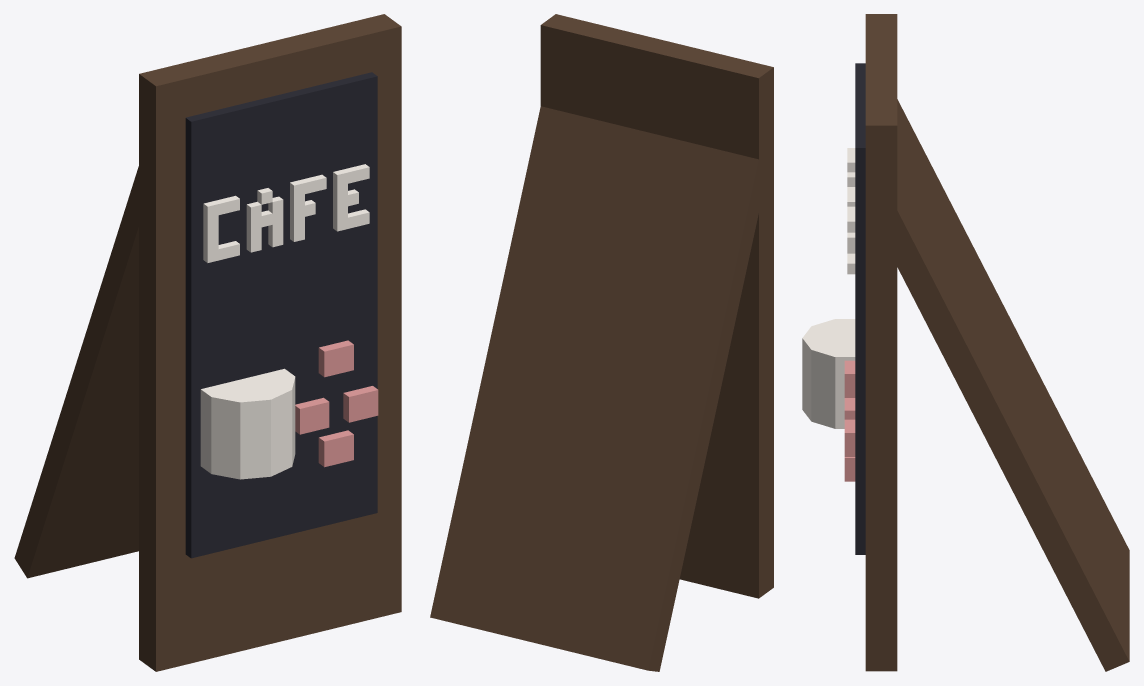
Rendered from CatCafe_Plot_Tier1_60x46.glb.
The picture shows the model from 3 angles, left to right: view 1: azimuth 30°, elevation 25°; view 2: azimuth 150°, elevation 25°; view 3: azimuth 270°, elevation 25°; orthographic projection. The views are drawn at different scales.
Parts seen in each view (by area): view 1: CatCafe_Plot_Tier1_60x46; view 2: CatCafe_Plot_Tier1_60x46; view 3: CatCafe_Plot_Tier1_60x46.
Boxes of the visible parts, left/top/right/bottom form: CatCafe_Plot_Tier1_60x46: left=14, top=14, right=401, bottom=671; CatCafe_Plot_Tier1_60x46: left=430, top=14, right=773, bottom=671; CatCafe_Plot_Tier1_60x46: left=802, top=14, right=1129, bottom=671.
Size of the model in its own units: 1 by 2.28 by 1.24.
Materials: 1 (1 with a texture image).
